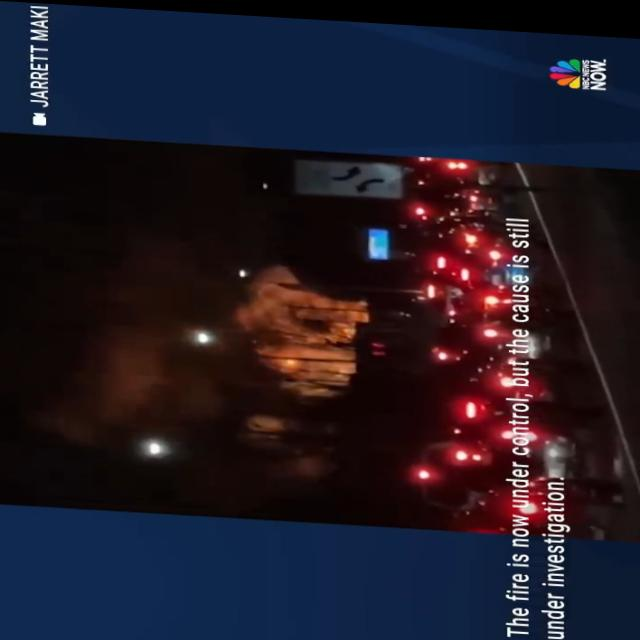Fire: (282, 294, 370, 371)
